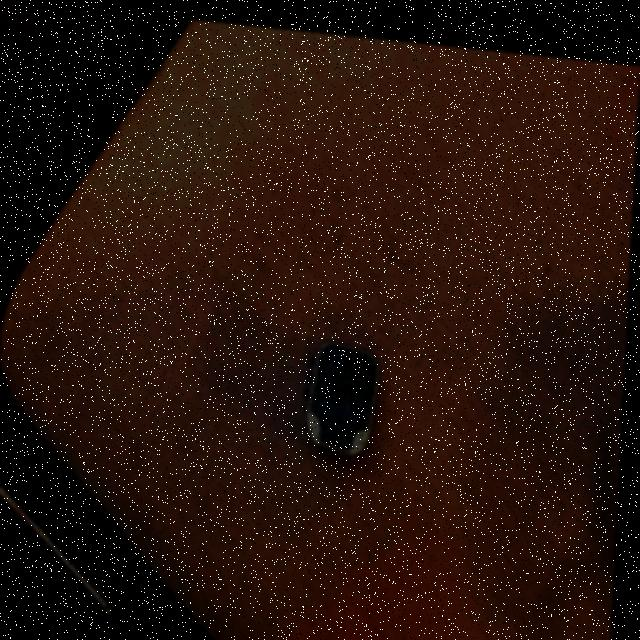adapter: (305, 329, 384, 452)
